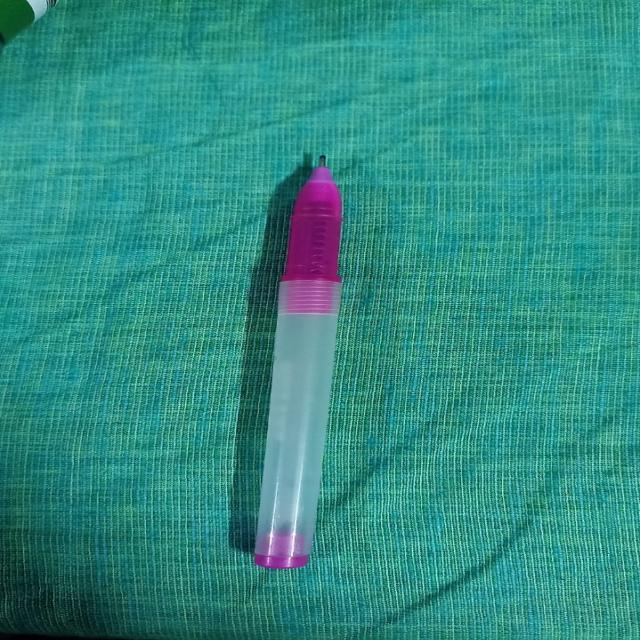pen: (232, 148, 355, 576)
